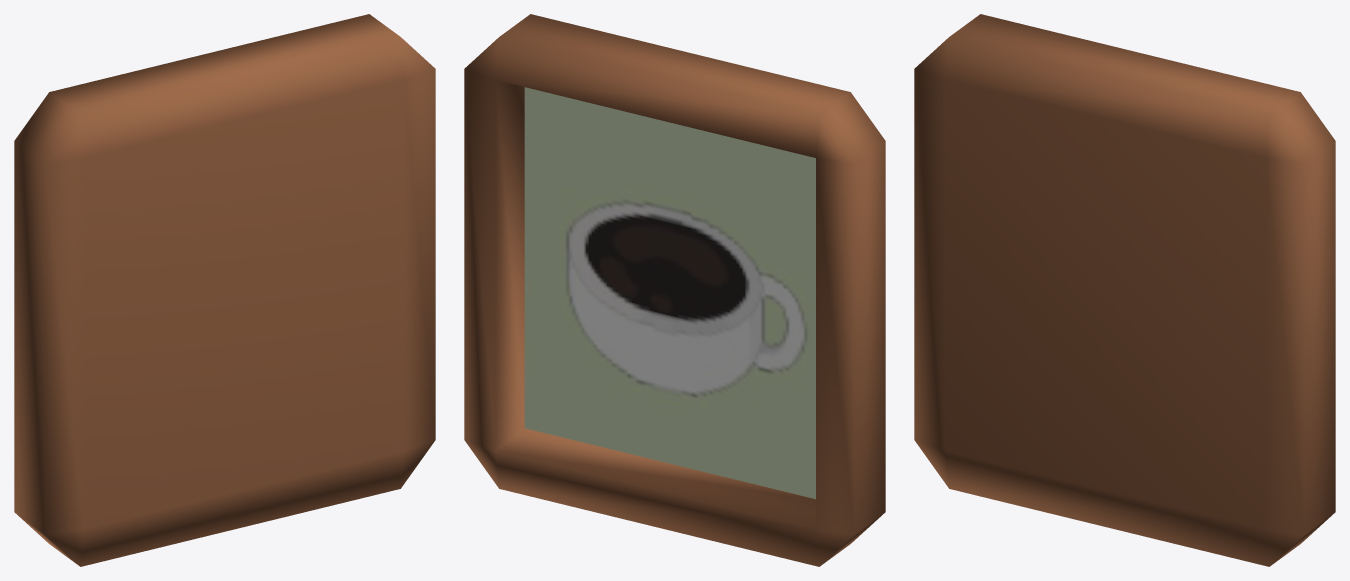
The model's file is pic_3.fbx.
3 views of the same model, side by side, from view 1: azimuth 30°, elevation 25°; view 2: azimuth 150°, elevation 25°; view 3: azimuth 330°, elevation 25° (orthographic).
Visible parts, largest first — view 1: Cube.076; view 2: Cube.076; view 3: Cube.076.
Boxes of the visible parts, bbox=[...] form: Cube.076: bbox=[14, 14, 435, 566]; Cube.076: bbox=[464, 14, 885, 566]; Cube.076: bbox=[914, 14, 1335, 566].
Size of the model in its own units: 64.39 by 71.25 by 10.94.
